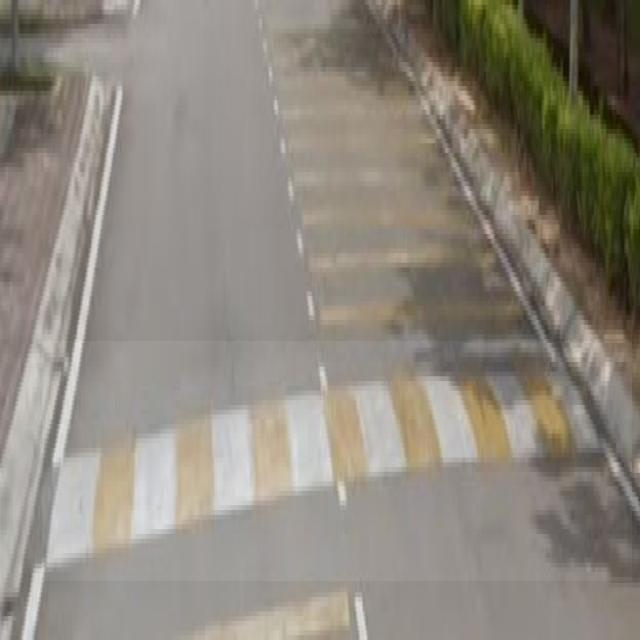Marked Bump: (70, 365, 575, 483)
